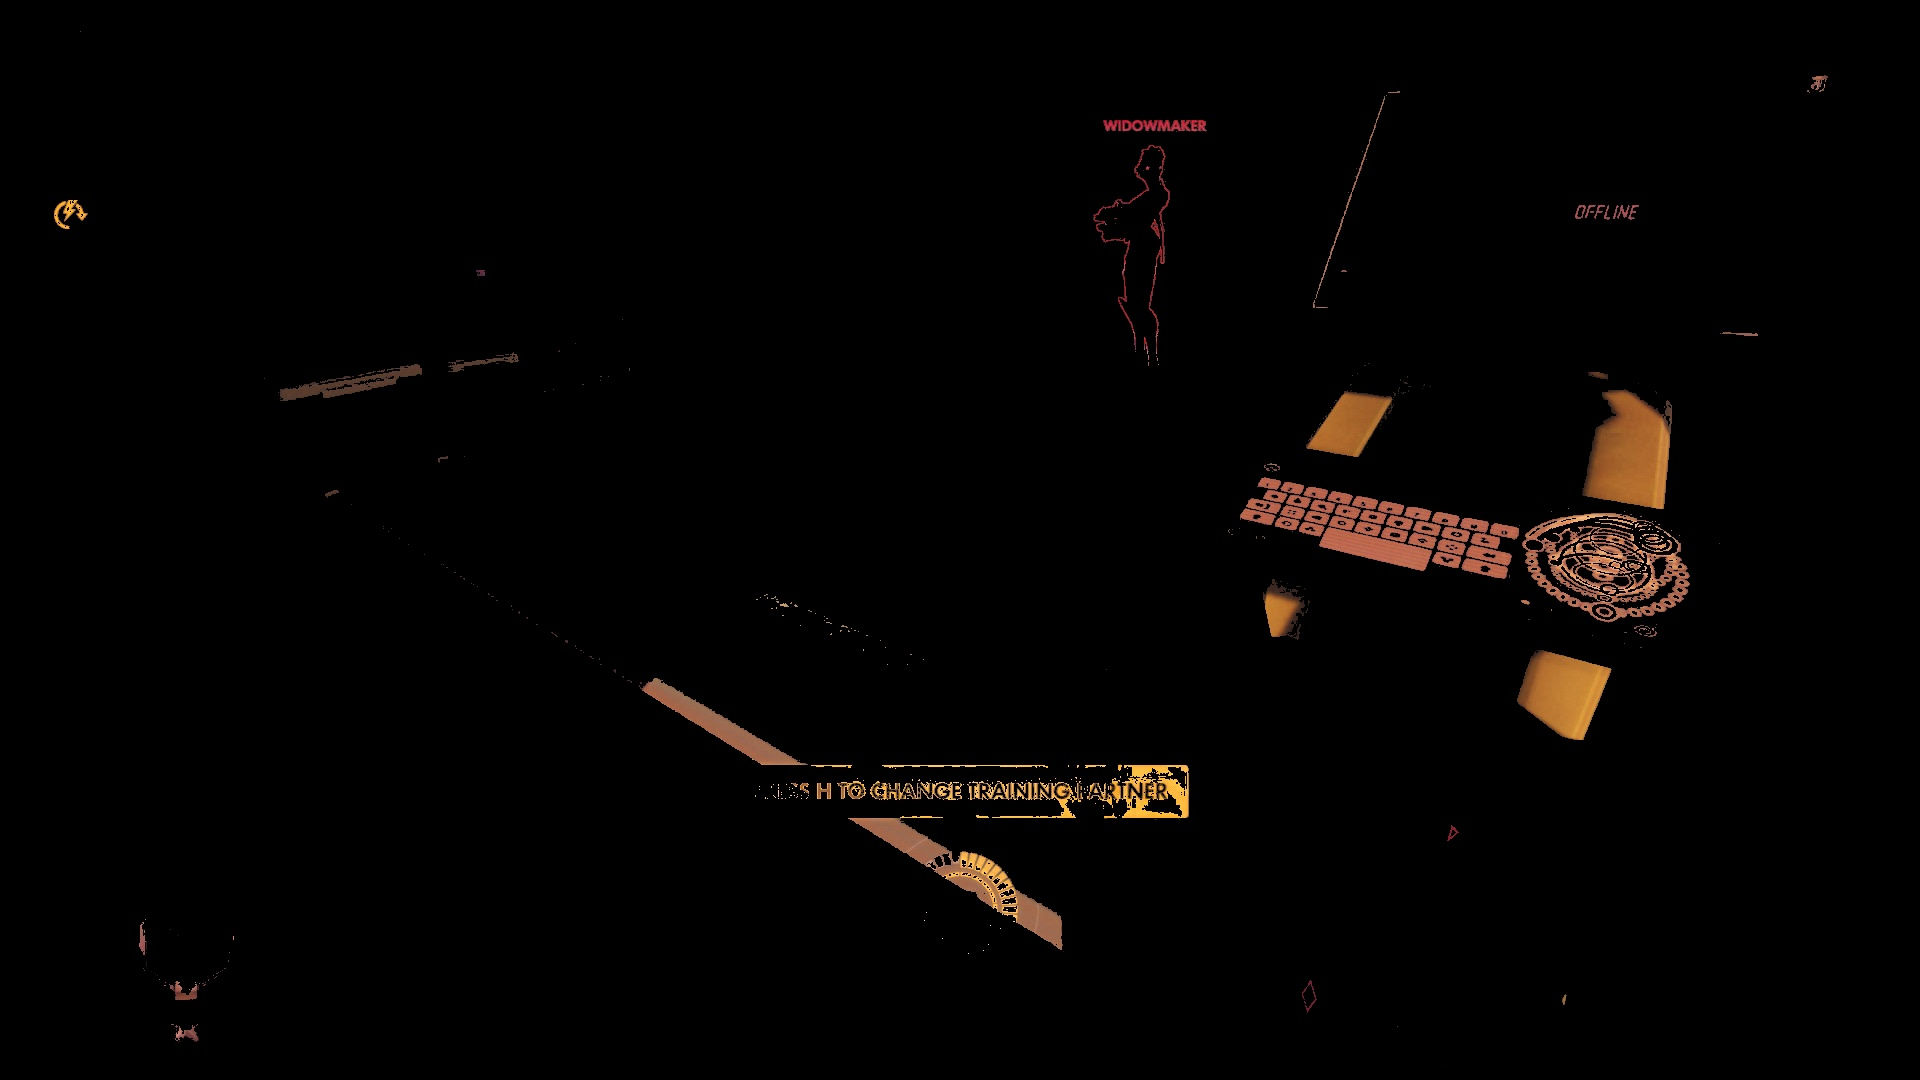widowmaker: (1093, 142, 1172, 385)
